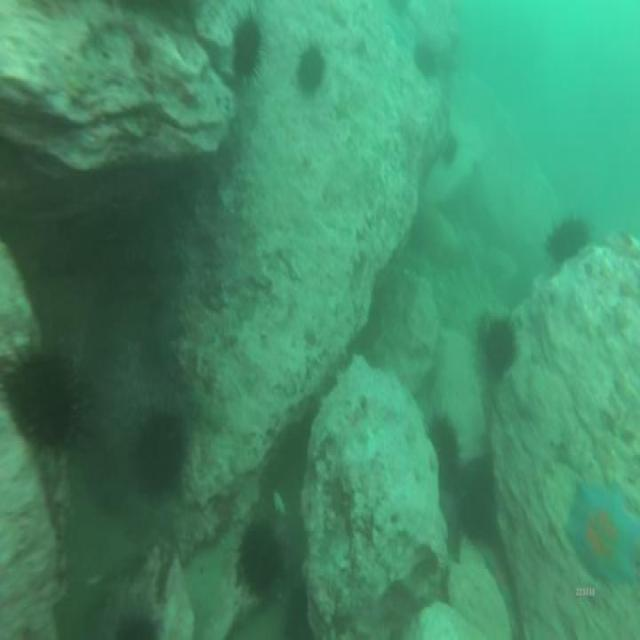echinus: (7, 356, 85, 442), (135, 412, 182, 492), (240, 525, 284, 594), (434, 414, 462, 482), (480, 316, 513, 373), (231, 22, 259, 79), (294, 42, 324, 94), (550, 220, 590, 258)
scallop: (273, 488, 288, 517)
starfish: (575, 476, 637, 584)
